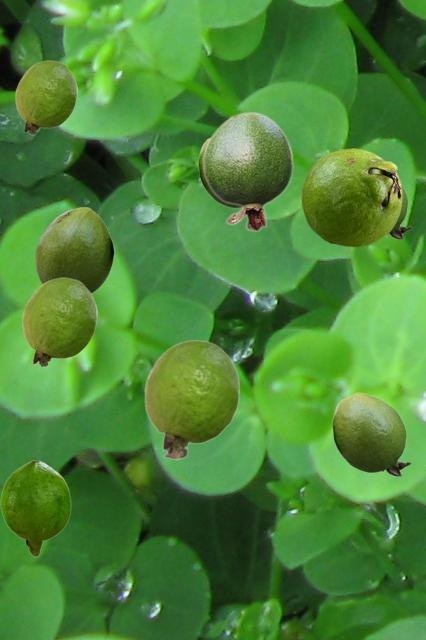guava: (144, 339, 239, 459), (202, 111, 293, 231), (301, 148, 401, 246), (0, 460, 70, 556), (35, 207, 113, 293), (22, 277, 96, 366), (332, 392, 410, 475), (15, 60, 76, 134), (198, 138, 239, 208), (386, 184, 411, 238)
